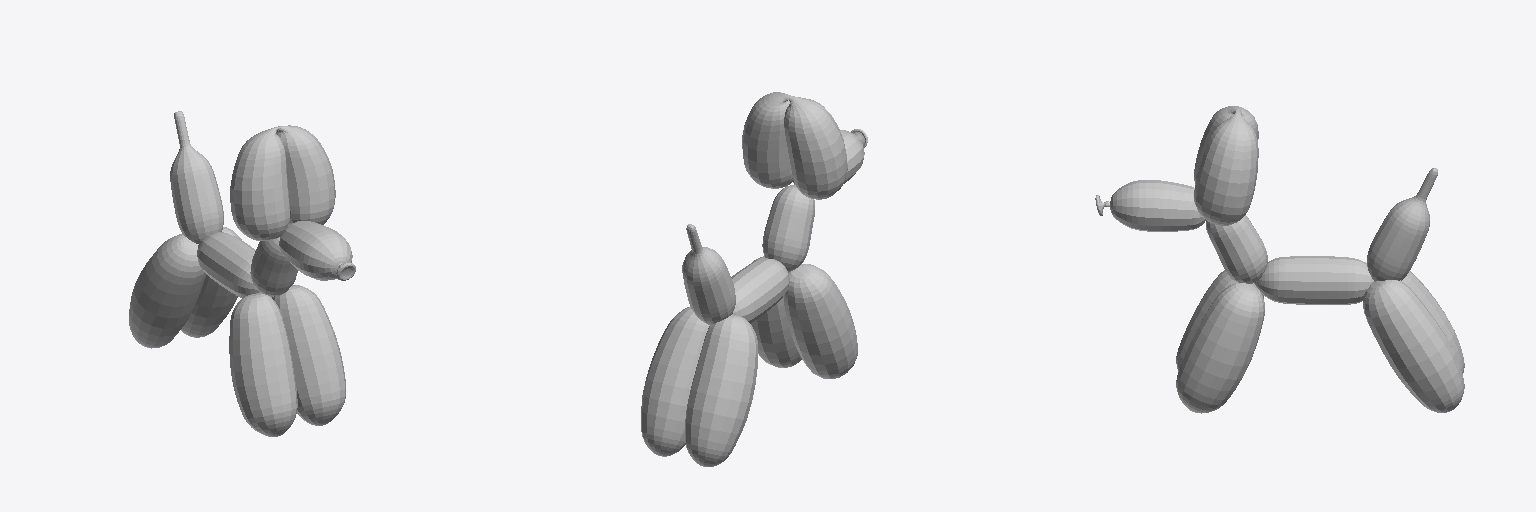
File: ballon.obj
3 renders of one model, left to right at view 1: azimuth 30°, elevation 25°; view 2: azimuth 150°, elevation 25°; view 3: azimuth 270°, elevation 25°, orthographic.
Visible parts, largest first — view 1: Sphere.004_Sphere.006; view 2: Sphere.004_Sphere.006; view 3: Sphere.004_Sphere.006.
Boxes of the visible parts, x1=… form: Sphere.004_Sphere.006: x1=129, y1=111, x2=355, y2=436; Sphere.004_Sphere.006: x1=641, y1=92, x2=867, y2=466; Sphere.004_Sphere.006: x1=1095, y1=106, x2=1464, y2=413.
Size of the model in its own units: 1.16 by 3.11 by 3.6.